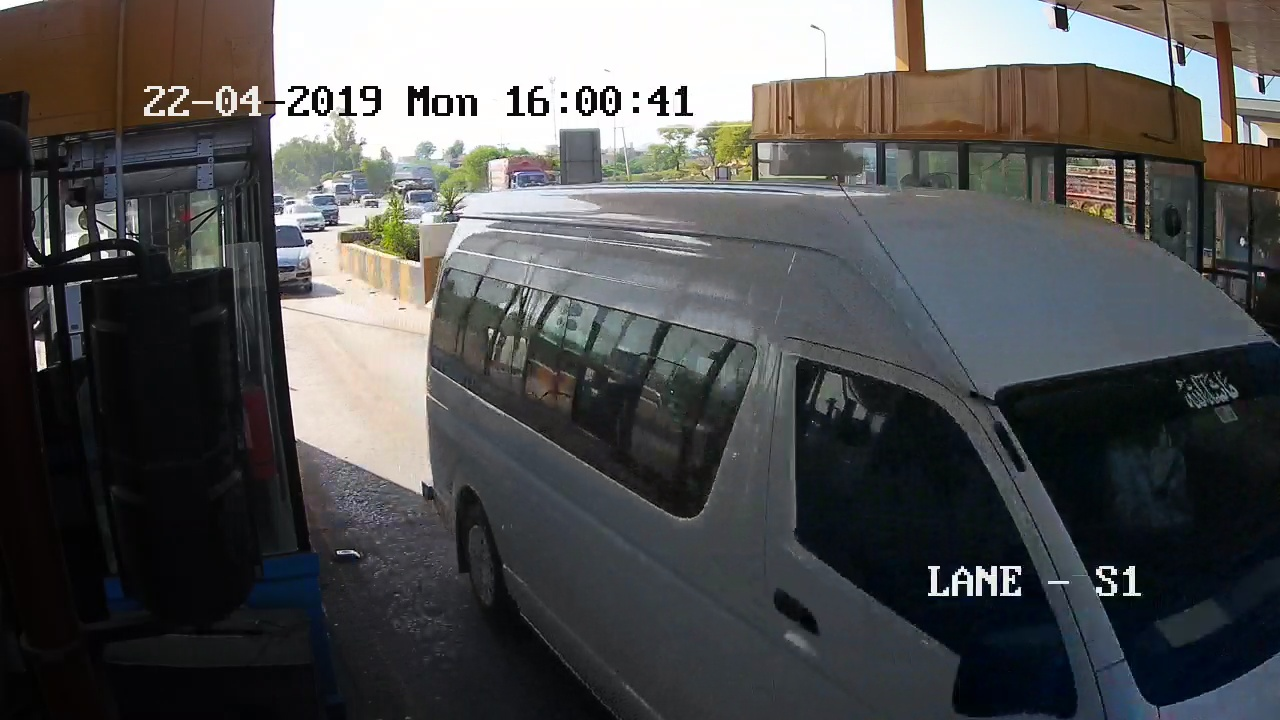car: (412, 189, 1280, 717)
